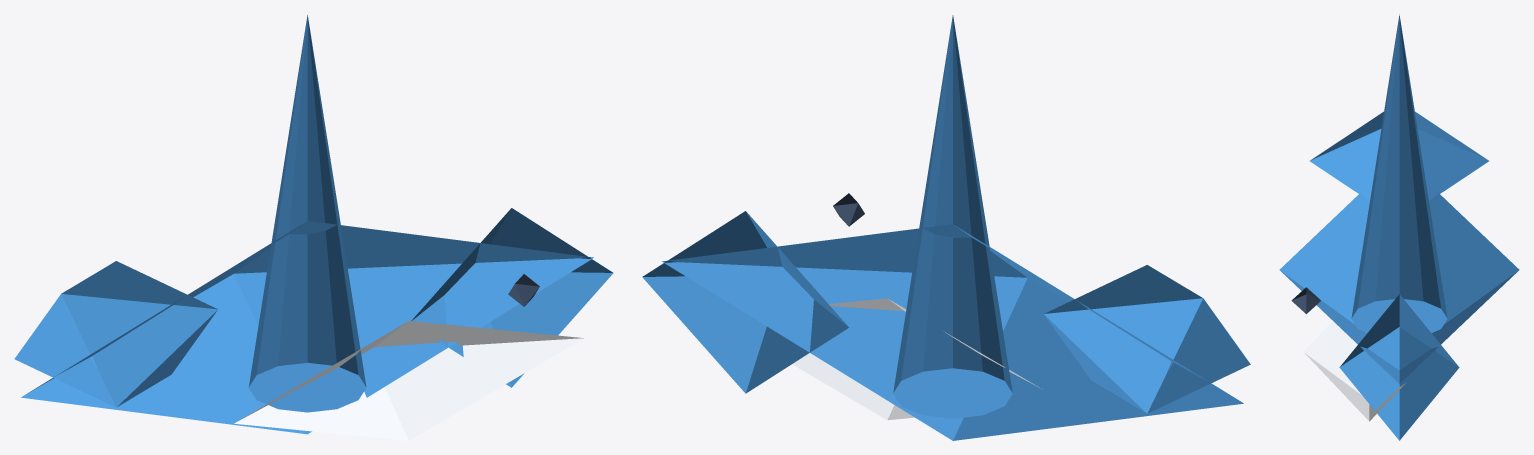
Rendered from minglora_ocean_shark.gltf.
3 views of the same model, side by side, from view 1: azimuth 30°, elevation 25°; view 2: azimuth 150°, elevation 25°; view 3: azimuth 270°, elevation 25° (orthographic). The views are drawn at different scales.
Visible parts, largest first — view 1: minglora_ocean_shark_0, minglora_ocean_shark_2, minglora_ocean_shark_3, minglora_ocean_shark_1, minglora_ocean_shark_4, minglora_ocean_shark_5; view 2: minglora_ocean_shark_0, minglora_ocean_shark_2, minglora_ocean_shark_3, minglora_ocean_shark_4, minglora_ocean_shark_1, minglora_ocean_shark_5; view 3: minglora_ocean_shark_2, minglora_ocean_shark_0, minglora_ocean_shark_4, minglora_ocean_shark_3, minglora_ocean_shark_1, minglora_ocean_shark_5.
Part boxes in pixels (x1,y1,x2,y2): minglora_ocean_shark_0: (21, 221, 593, 434); minglora_ocean_shark_2: (248, 15, 366, 412); minglora_ocean_shark_3: (14, 261, 217, 407); minglora_ocean_shark_1: (234, 321, 583, 440); minglora_ocean_shark_4: (411, 208, 613, 387); minglora_ocean_shark_5: (508, 274, 539, 306); minglora_ocean_shark_0: (662, 224, 1243, 440); minglora_ocean_shark_2: (893, 15, 1012, 418); minglora_ocean_shark_3: (1044, 265, 1250, 413); minglora_ocean_shark_4: (642, 211, 848, 393); minglora_ocean_shark_1: (792, 298, 1042, 420); minglora_ocean_shark_5: (833, 193, 864, 226); minglora_ocean_shark_2: (1351, 14, 1447, 332); minglora_ocean_shark_0: (1279, 193, 1519, 383); minglora_ocean_shark_4: (1339, 294, 1459, 440); minglora_ocean_shark_3: (1310, 111, 1488, 200); minglora_ocean_shark_1: (1303, 321, 1405, 421); minglora_ocean_shark_5: (1291, 287, 1320, 313).
Bounding box in the file's own units: 1.88 × 1.3 × 0.8.
